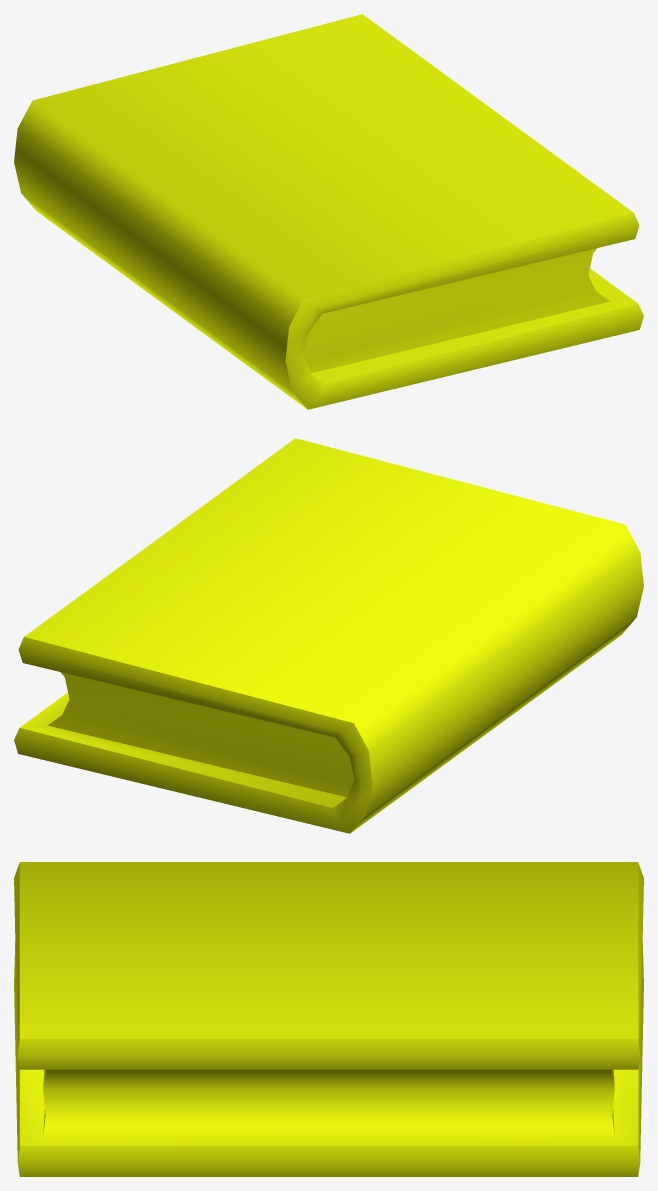
The model's file is Book2.FBX.
The picture shows the model from 3 angles, top to bottom: view 1: azimuth 30°, elevation 25°; view 2: azimuth 150°, elevation 25°; view 3: azimuth 270°, elevation 25°; orthographic projection. The views are drawn at different scales.
Parts seen in each view (by area): view 1: Box018; view 2: Box018; view 3: Box018.
Boxes of the visible parts, box(x1,y1,x2,y2) form: Box018: box(14, 14, 643, 409); Box018: box(14, 438, 643, 833); Box018: box(14, 862, 643, 1176).
Size of the model in its own units: 0.3308 by 0.1047 by 0.443.
